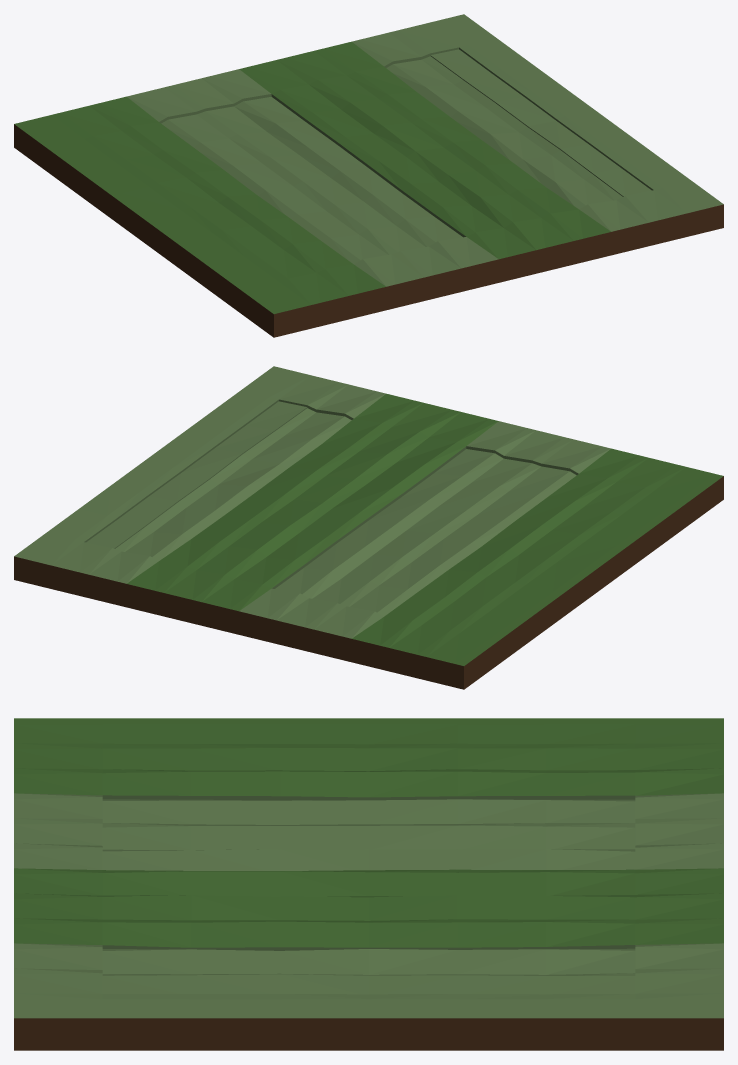
File: playing-field-turf-tile-2b68f5.glb
3 views of the same model, one above another, from view 1: azimuth 30°, elevation 25°; view 2: azimuth 150°, elevation 25°; view 3: azimuth 270°, elevation 25° (orthographic). The views are drawn at different scales.
Visible parts, largest first — view 1: turf-tile-mesh; view 2: turf-tile-mesh; view 3: turf-tile-mesh.
Part boxes in pixels (bbox=[...]): turf-tile-mesh: bbox=[14, 14, 723, 337]; turf-tile-mesh: bbox=[14, 366, 723, 689]; turf-tile-mesh: bbox=[14, 718, 723, 1050].
Size of the model in its own units: 1 by 0.0568 by 1.
